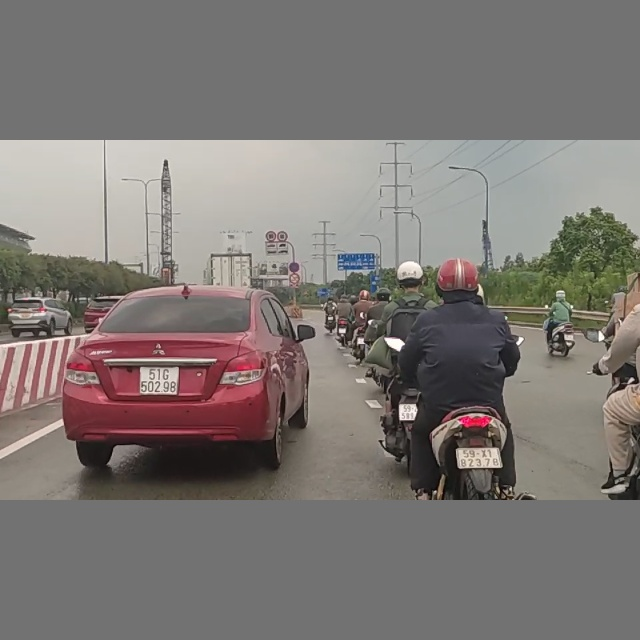P.130: (288, 262, 300, 273)
